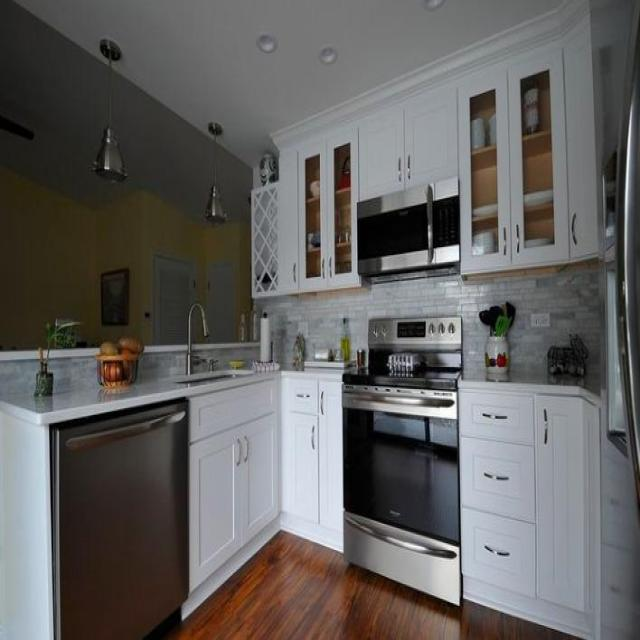dishwasher: (51, 396, 189, 638)
